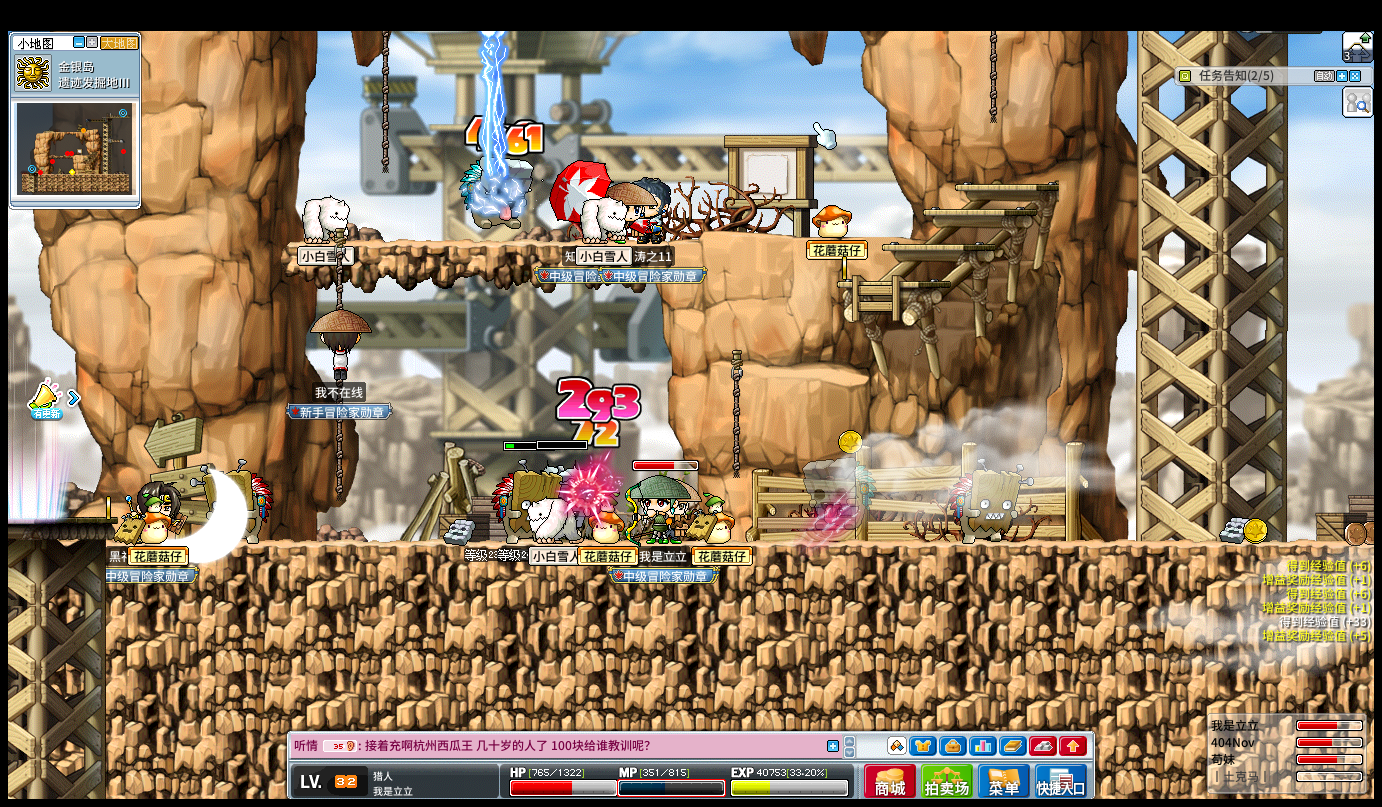floor: (287, 238, 673, 249), (762, 364, 871, 385), (748, 231, 927, 242), (836, 279, 948, 288), (9, 515, 115, 524), (922, 207, 1035, 215), (884, 243, 994, 250), (951, 184, 1059, 191)
monster: (457, 157, 535, 241), (948, 463, 1027, 543), (493, 465, 570, 541), (227, 463, 275, 543)
rope: (728, 348, 741, 478), (378, 31, 389, 174), (988, 30, 997, 122), (334, 231, 343, 310), (334, 421, 342, 504)
